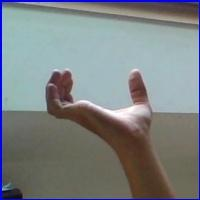B: (36, 61, 161, 149)
